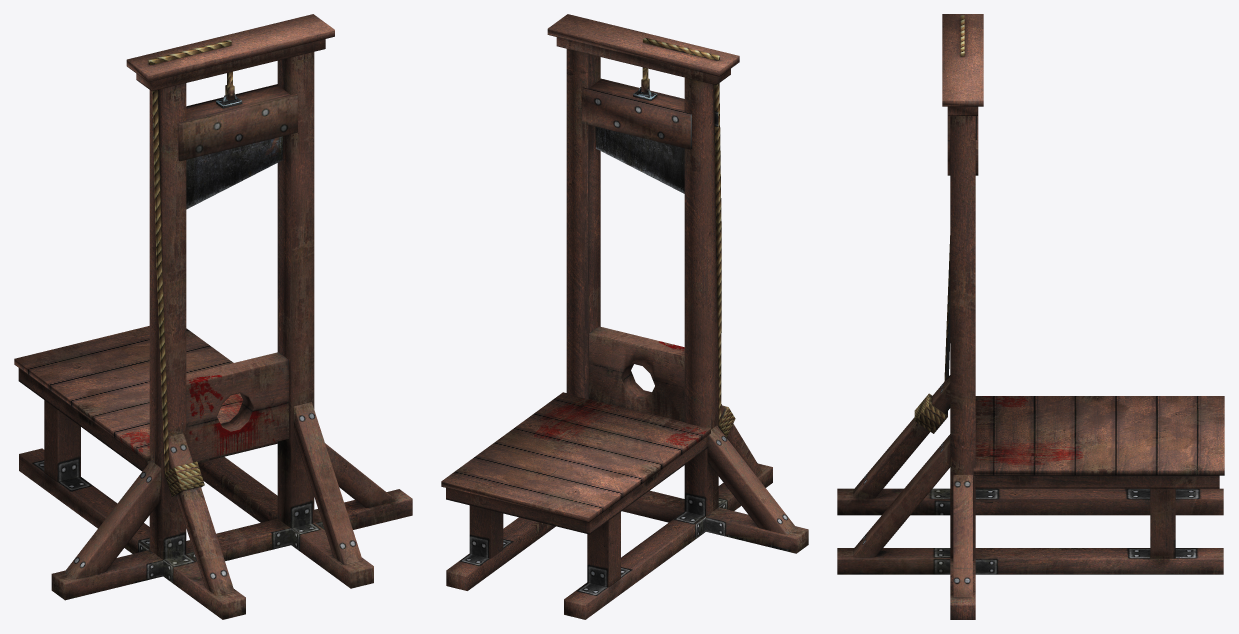
Rendered from guillotine.glb.
3 views of the same model, side by side, from view 1: azimuth 30°, elevation 25°; view 2: azimuth 150°, elevation 25°; view 3: azimuth 270°, elevation 25° (orthographic). The views are drawn at different scales.
Parts seen in each view (by area): view 1: Cube.000; view 2: Cube.000; view 3: Cube.000.
Boxes of the visible parts, <box> form: Cube.000: <box>14,14,412,619</box>; Cube.000: <box>441,14,808,619</box>; Cube.000: <box>837,14,1224,619</box>.
Size of the model in its own units: 2.3 by 3.25 by 2.34.
1 material, 1 textured.
